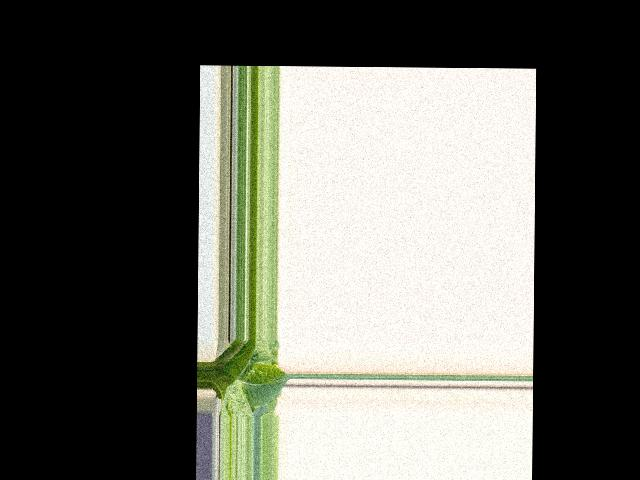lettuce: (211, 340, 283, 409)
